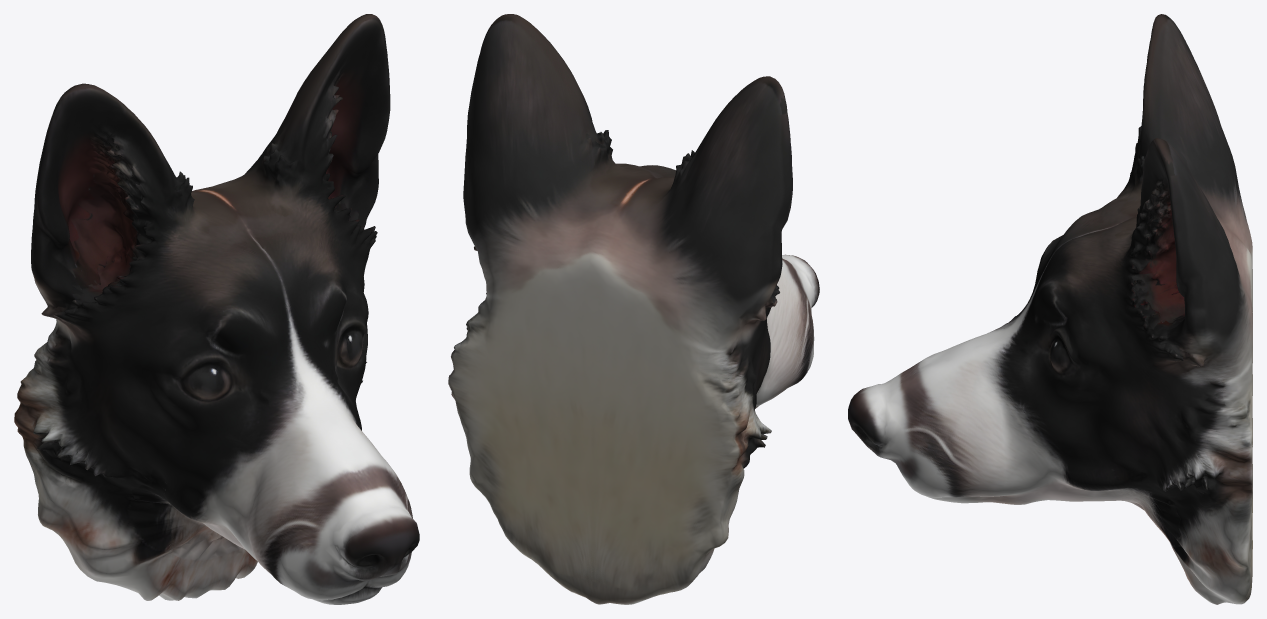
Rendered from 019a7bba-5549-7a32-9dd6-7f3f7b41a2a0.glb.
3 views of the same model, side by side, from view 1: azimuth 30°, elevation 25°; view 2: azimuth 150°, elevation 25°; view 3: azimuth 270°, elevation 25° (orthographic). The views are drawn at different scales.
Size of the model in its own units: 1.22 by 1.91 by 1.35.
Materials: 1 (1 with a texture image).
